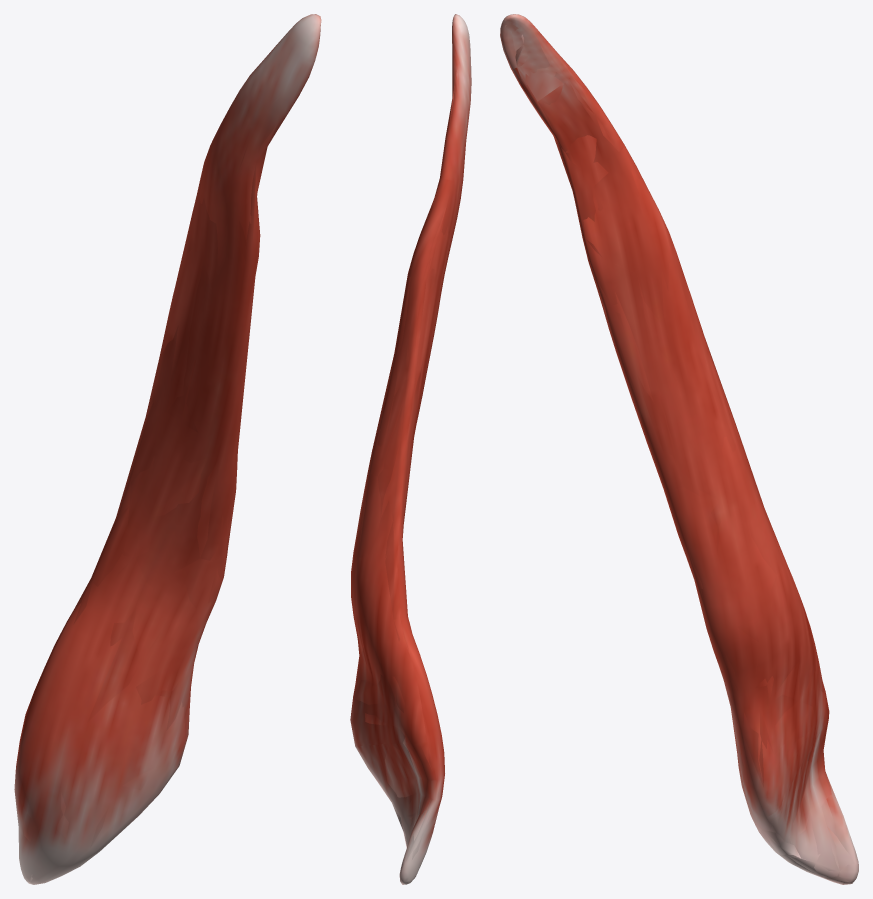
Rendered from R Brachiocephalicus.fbx.
The picture shows the model from 3 angles, left to right: view 1: azimuth 30°, elevation 25°; view 2: azimuth 150°, elevation 25°; view 3: azimuth 270°, elevation 25°; orthographic projection. The views are drawn at different scales.
Parts seen in each view (by area): view 1: R Brachiocephalicus, R Brachiocephalicus low; view 2: R Brachiocephalicus, R Brachiocephalicus low; view 3: R Brachiocephalicus, R Brachiocephalicus low.
Boxes of the visible parts, left/top/right/bottom form: R Brachiocephalicus: left=14, top=14, right=321, bottom=884; R Brachiocephalicus low: left=14, top=95, right=281, bottom=883; R Brachiocephalicus: left=350, top=14, right=471, bottom=884; R Brachiocephalicus low: left=351, top=36, right=457, bottom=883; R Brachiocephalicus: left=500, top=14, right=858, bottom=884; R Brachiocephalicus low: left=505, top=15, right=854, bottom=884.
Bounding box in the file's own units: 16.27 × 96.02 × 33.91.
